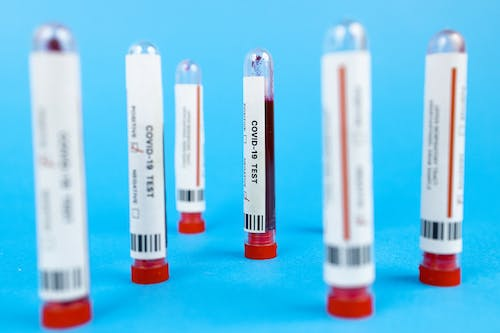blood: (241, 48, 278, 232), (29, 21, 72, 52)
